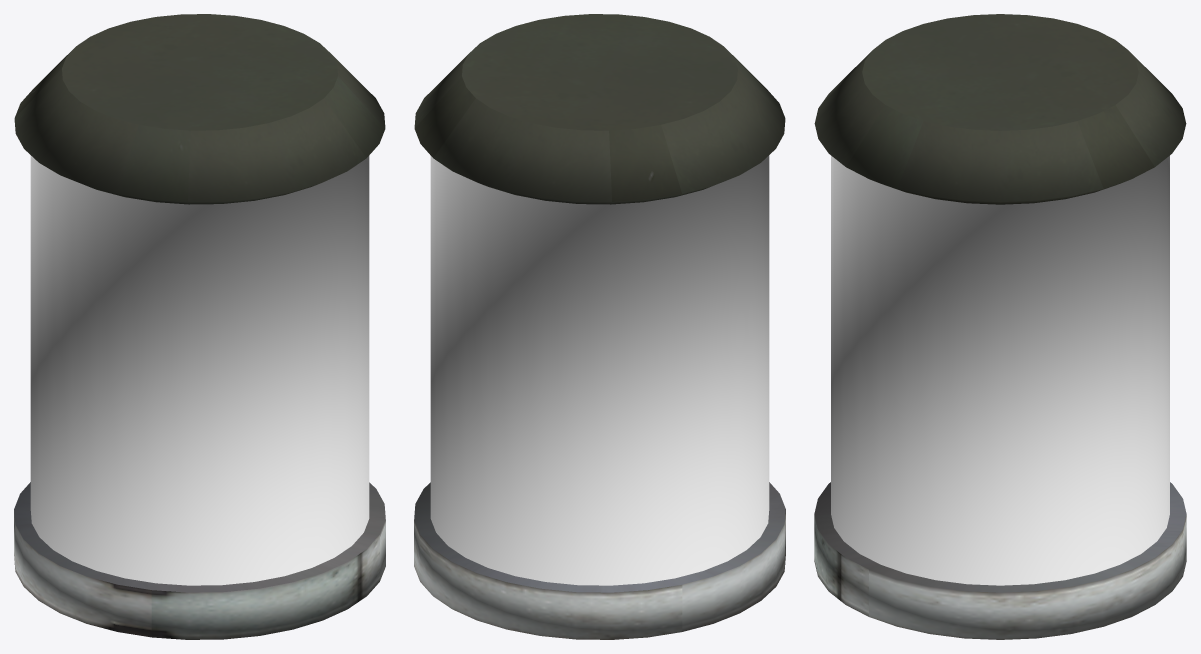
File: Specimen_Jar_01.fbx
3 views of the same model, side by side, from view 1: azimuth 30°, elevation 25°; view 2: azimuth 150°, elevation 25°; view 3: azimuth 270°, elevation 25° (orthographic).
Visible parts, largest first — view 1: Specimen_Jar_01; view 2: Specimen_Jar_01; view 3: Specimen_Jar_01.
Part boxes in pixels (x1,y1,x2,y2): Specimen_Jar_01: [14, 14, 385, 639]; Specimen_Jar_01: [414, 14, 785, 639]; Specimen_Jar_01: [814, 14, 1186, 639].
Bounding box in the file's own units: 31.72 × 45.95 × 31.72.
